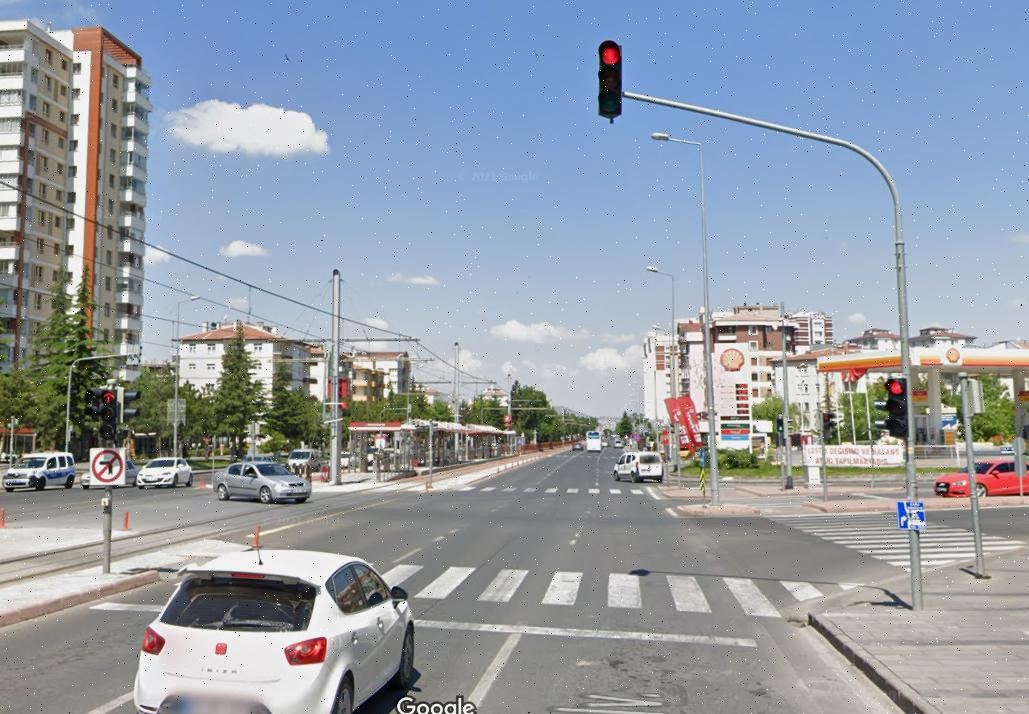leftturnsareforbidden: (91, 447, 128, 486)
redlight: (596, 39, 622, 116), (886, 377, 910, 434), (97, 390, 118, 439)
